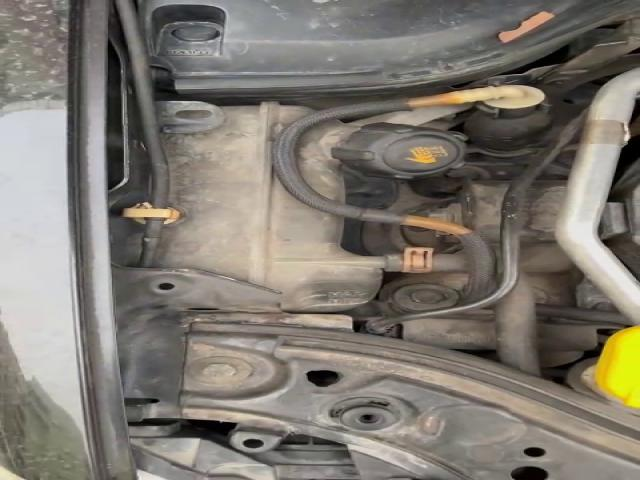antifreeze_tank: (157, 102, 404, 312), (298, 105, 467, 200)
